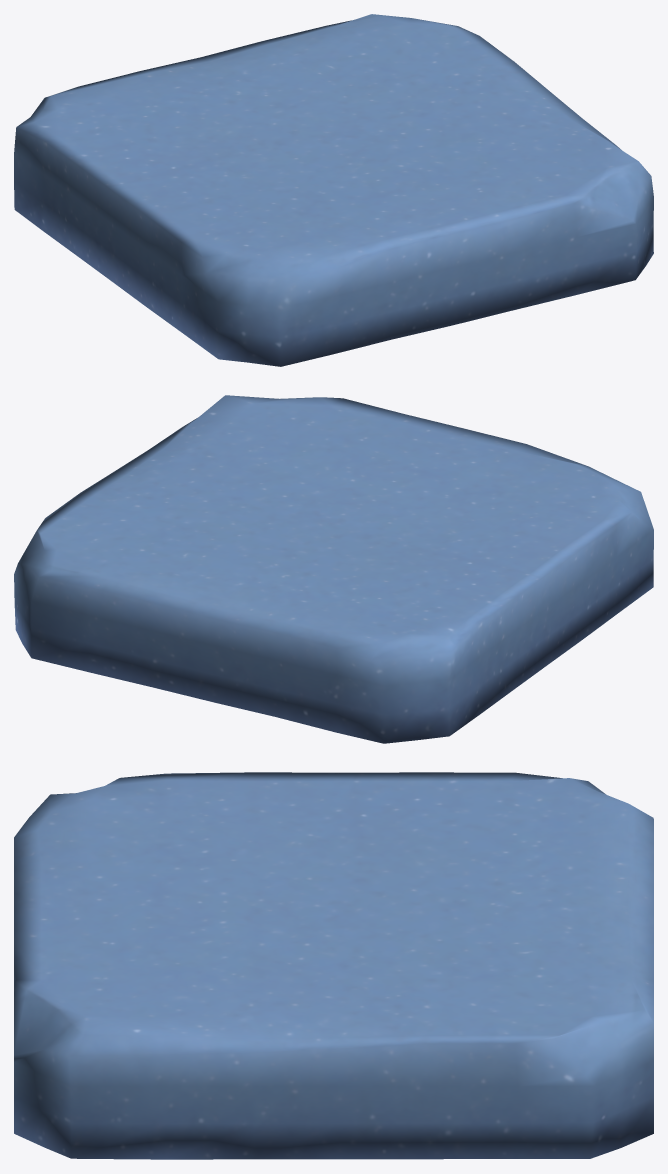
The model's file is Meshy_AI_model_20261128_texture.fbx.
The picture shows the model from 3 angles, top to bottom: view 1: azimuth 30°, elevation 25°; view 2: azimuth 150°, elevation 25°; view 3: azimuth 270°, elevation 25°; orthographic projection. The views are drawn at different scales.
Visible parts, largest first — view 1: geometry_0; view 2: geometry_0; view 3: geometry_0.
Boxes of the visible parts, box(x1,y1,x2,y2) form: geometry_0: box(14, 14, 653, 366); geometry_0: box(14, 395, 653, 743); geometry_0: box(14, 772, 653, 1159).
Bounding box in the file's own units: 100 × 20.33 × 100.
Materials: 1 (1 with a texture image).
